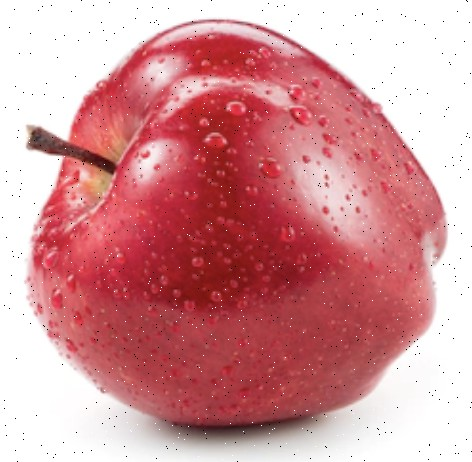fresh_apple: (25, 18, 449, 426)
